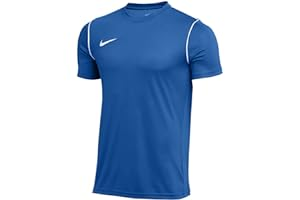design: (97, 34, 119, 48)
